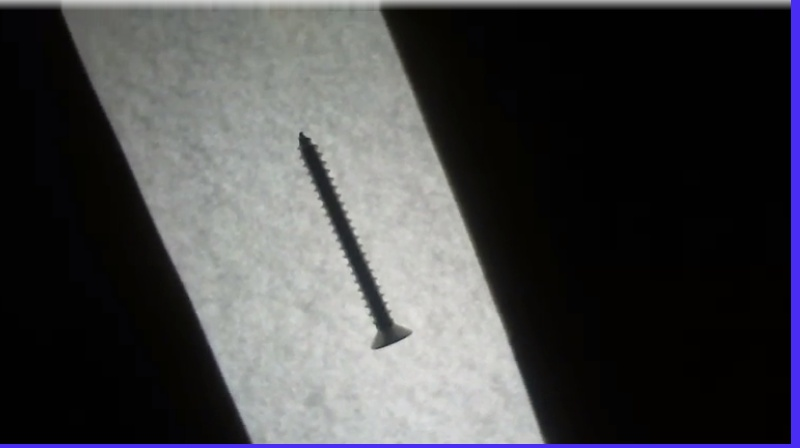S002: (295, 126, 416, 350)
